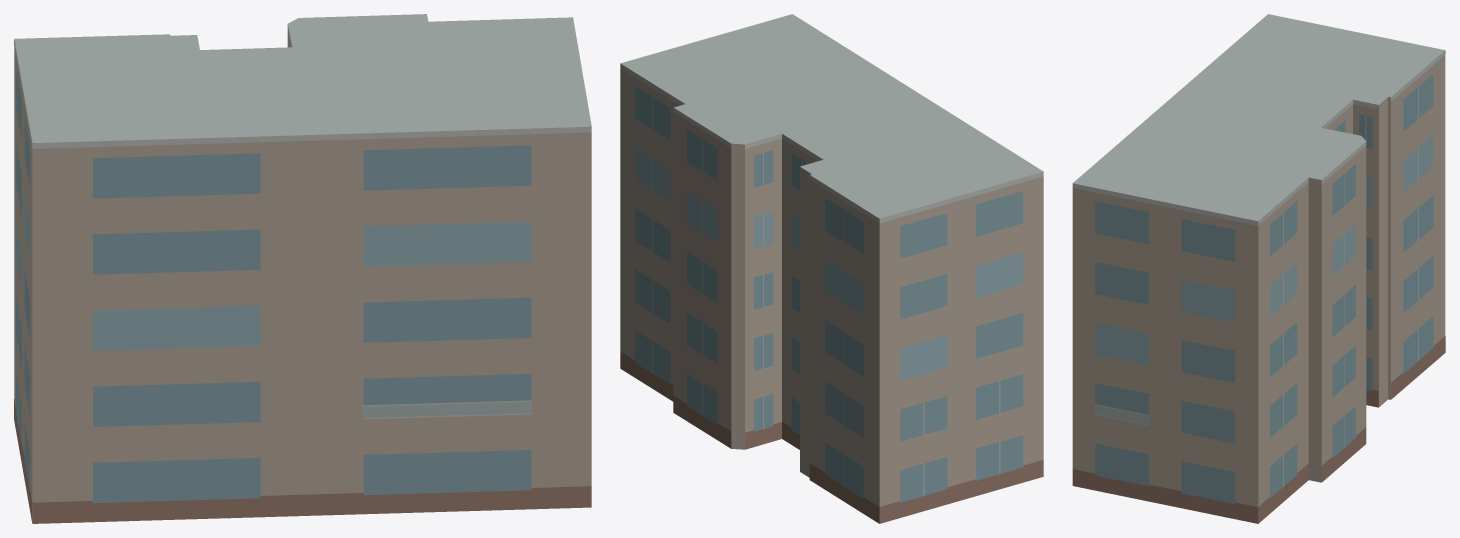
The model's file is survey-upis-32593464.glb.
The picture shows the model from 3 angles, left to right: view 1: azimuth 30°, elevation 25°; view 2: azimuth 150°, elevation 25°; view 3: azimuth 270°, elevation 25°; orthographic projection. The views are drawn at different scales.
Visible parts, largest first — view 1: survey-upis-32593464.tmp; view 2: survey-upis-32593464.tmp; view 3: survey-upis-32593464.tmp.
Part boxes in pixels (bbox=[...]): survey-upis-32593464.tmp: bbox=[14, 14, 591, 523]; survey-upis-32593464.tmp: bbox=[620, 14, 1043, 523]; survey-upis-32593464.tmp: bbox=[1072, 14, 1445, 523].
Size of the model in its own units: 23.51 by 16 by 17.87.
